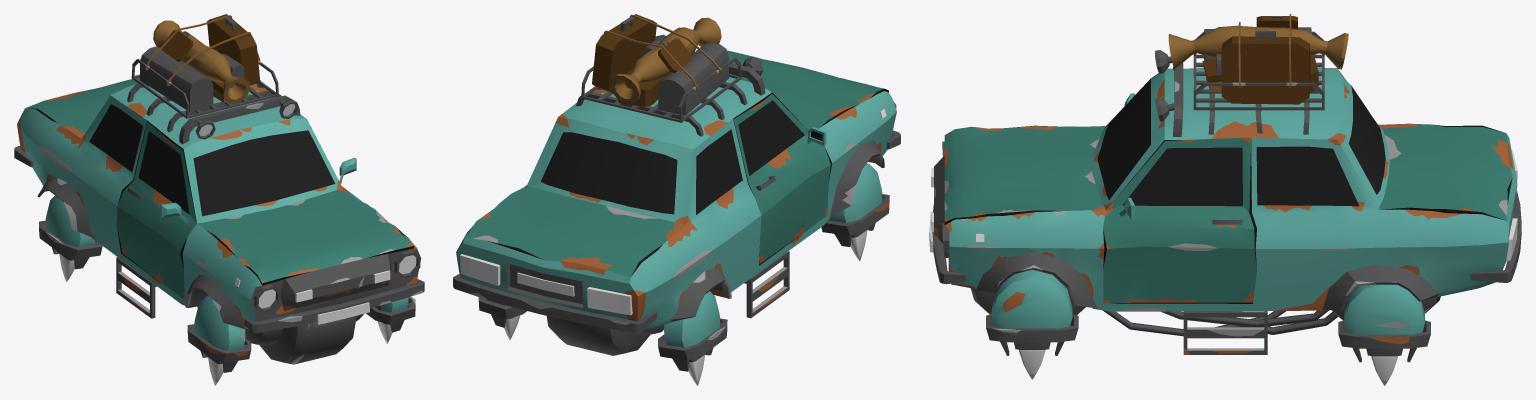
Rendered from Zaz_cgboost.fbx.
The picture shows the model from 3 angles, left to right: view 1: azimuth 30°, elevation 25°; view 2: azimuth 150°, elevation 25°; view 3: azimuth 270°, elevation 25°; orthographic projection. The views are drawn at different scales.
Parts seen in each view (by area): view 1: Car, Nozzle_FR, Nozzle_BR, Stairs, Nozzle_FL; view 2: Car, Nozzle_BR, Nozzle_FR, Stairs, Nozzle_BL; view 3: Car, Nozzle_FL, Nozzle_BL, Stairs, Circle.003, Circle.001, Circle.002, Fire_BL.
Part boxes in pixels (<box>): Car: <box>14,14,424,364</box>; Nozzle_FR: <box>187,296,251,372</box>; Nozzle_BR: <box>39,195,102,269</box>; Stairs: <box>116,257,156,318</box>; Nozzle_FL: <box>366,296,415,332</box>; Car: <box>453,14,900,355</box>; Nozzle_BR: <box>658,291,727,371</box>; Nozzle_FR: <box>821,163,889,246</box>; Stairs: <box>744,251,789,318</box>; Nozzle_BL: <box>478,297,526,327</box>; Car: <box>929,14,1521,320</box>; Nozzle_FL: <box>986,270,1078,355</box>; Nozzle_BL: <box>1338,284,1430,362</box>; Stairs: <box>1183,311,1267,354</box>; Circle.003: <box>1161,310,1329,327</box>; Circle.001: <box>1103,310,1285,336</box>; Circle.002: <box>1235,312,1338,334</box>; Fire_BL: <box>1371,356,1397,385</box>.
Size of the model in its own units: 178 by 229 by 376.
